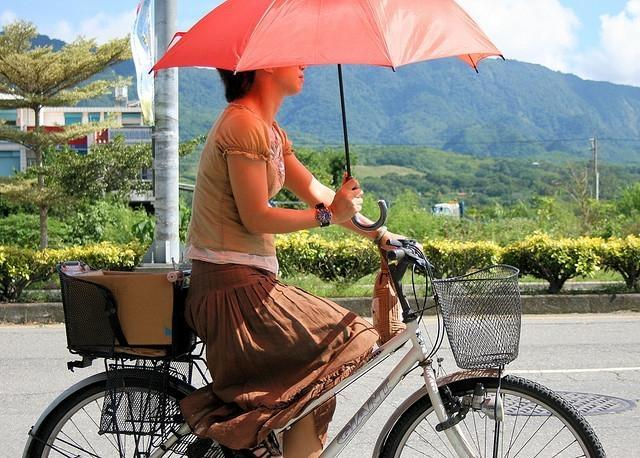bicycle: (21, 241, 604, 453)
